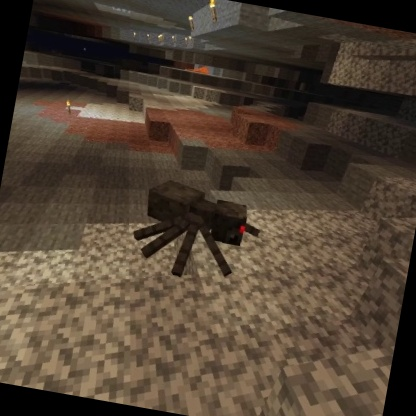spider: (125, 173, 269, 293)
